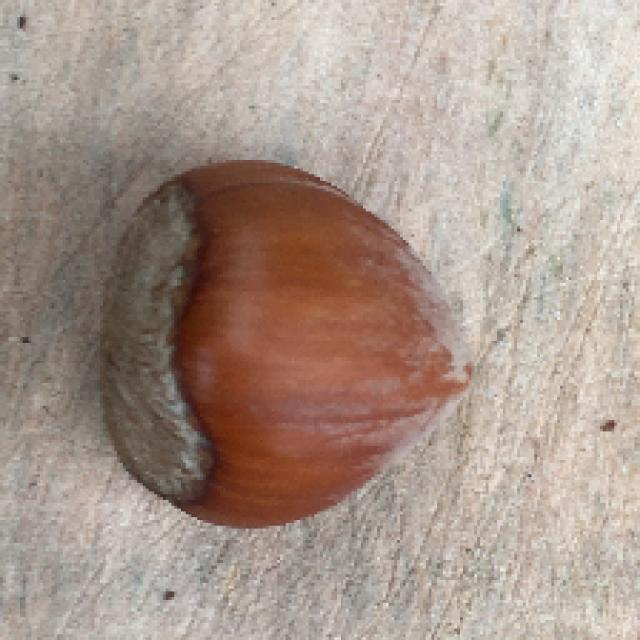qualityHazelnut: (92, 150, 482, 536)
